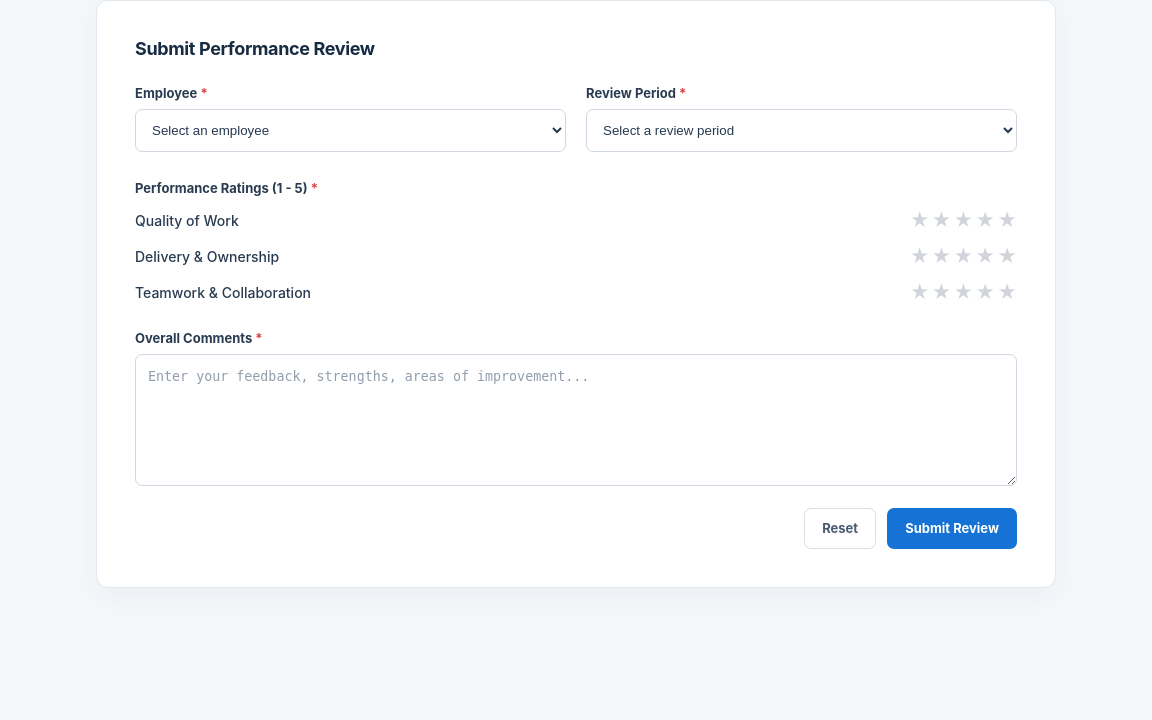
Test: SubmitReview › submits selected values and resets the form after success
The image size is (1152, 720).
Select "E-5 - Sam Lee" in the dropdown labelled "Employee *" at (350, 130), box [135,109,566,152]
Select "2026 H1" in the dropdown labelled "Review Period *" at (802, 130), box [586,109,1017,152]
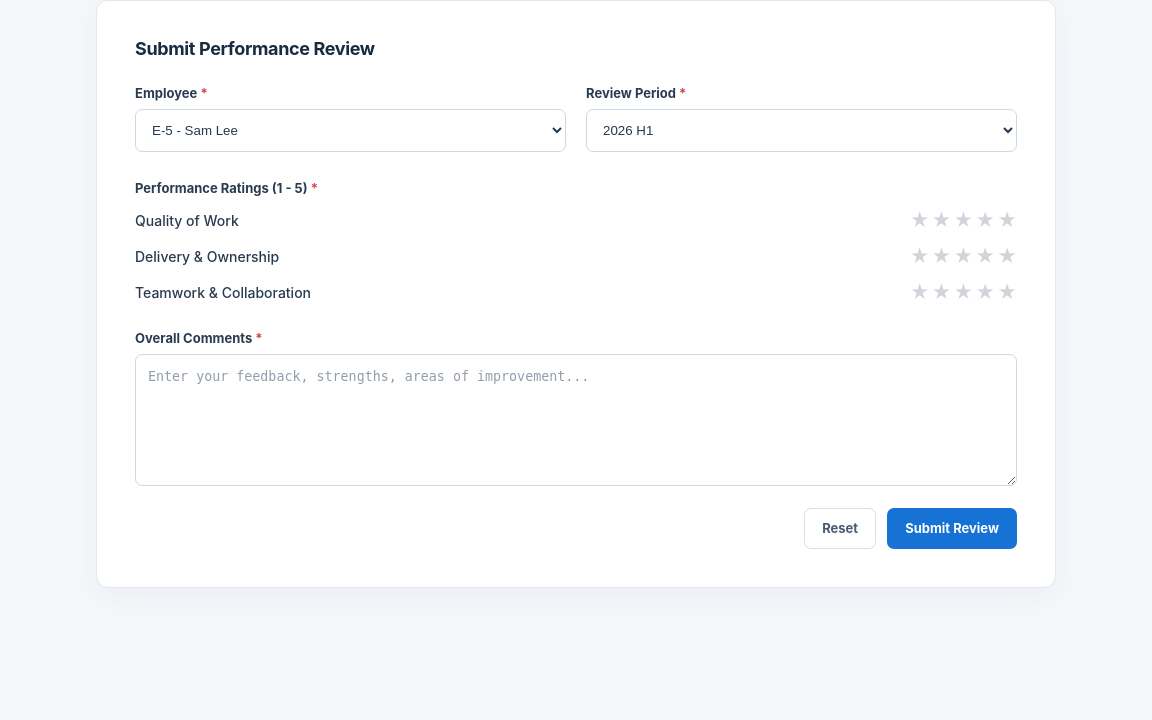
Click the button named "Quality of Work: 4 out of 5" at (985, 220), box [975,211,995,230]
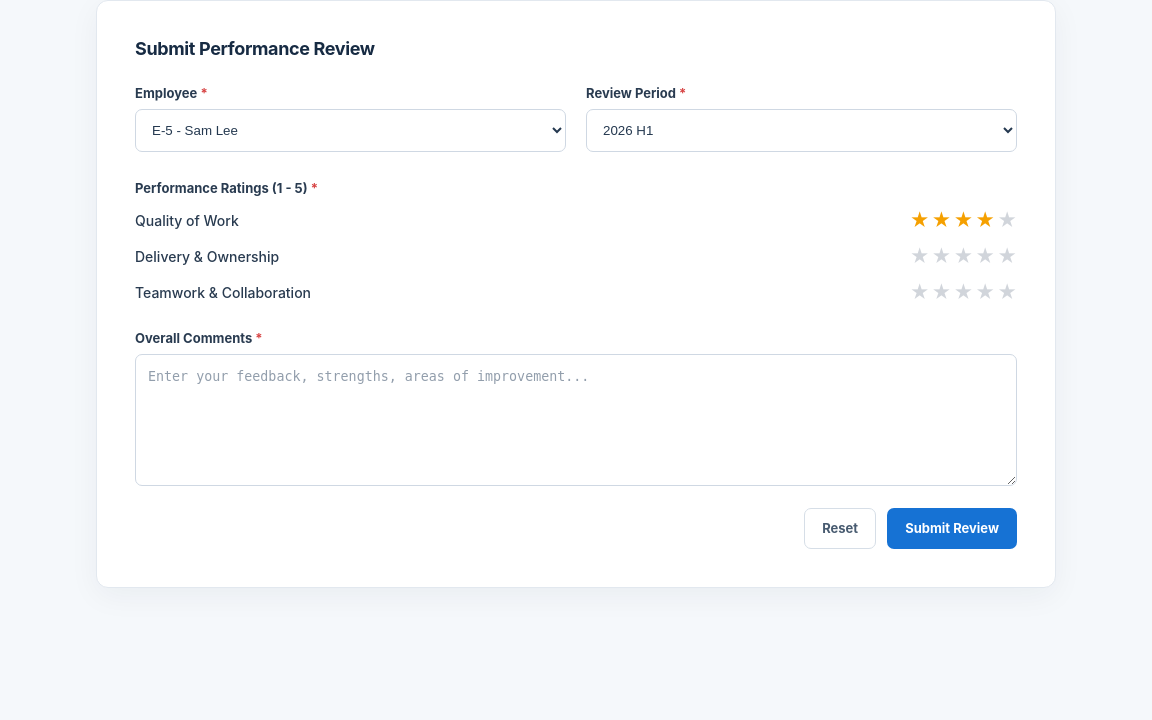
Click the button named "Delivery & Ownership: 3 out of 5" at (963, 256), box [953,247,973,266]
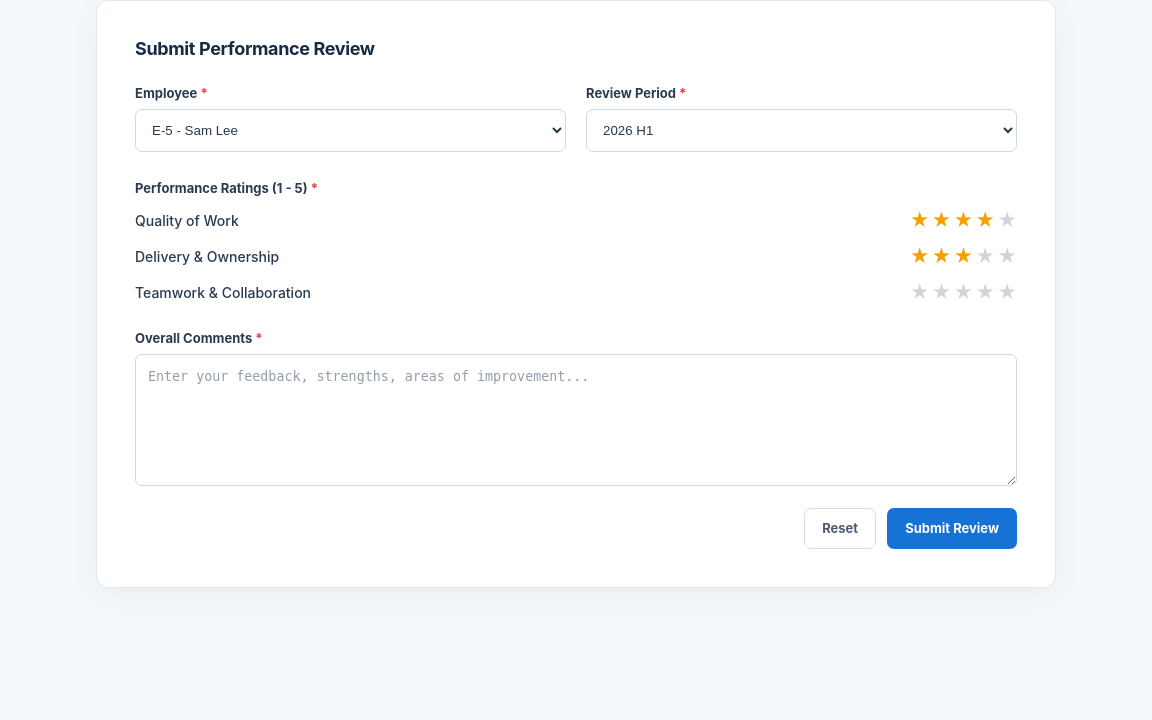
Click the button named "Teamwork & Collaboration: 5 out of 5" at (1007, 292), box [997,283,1017,302]
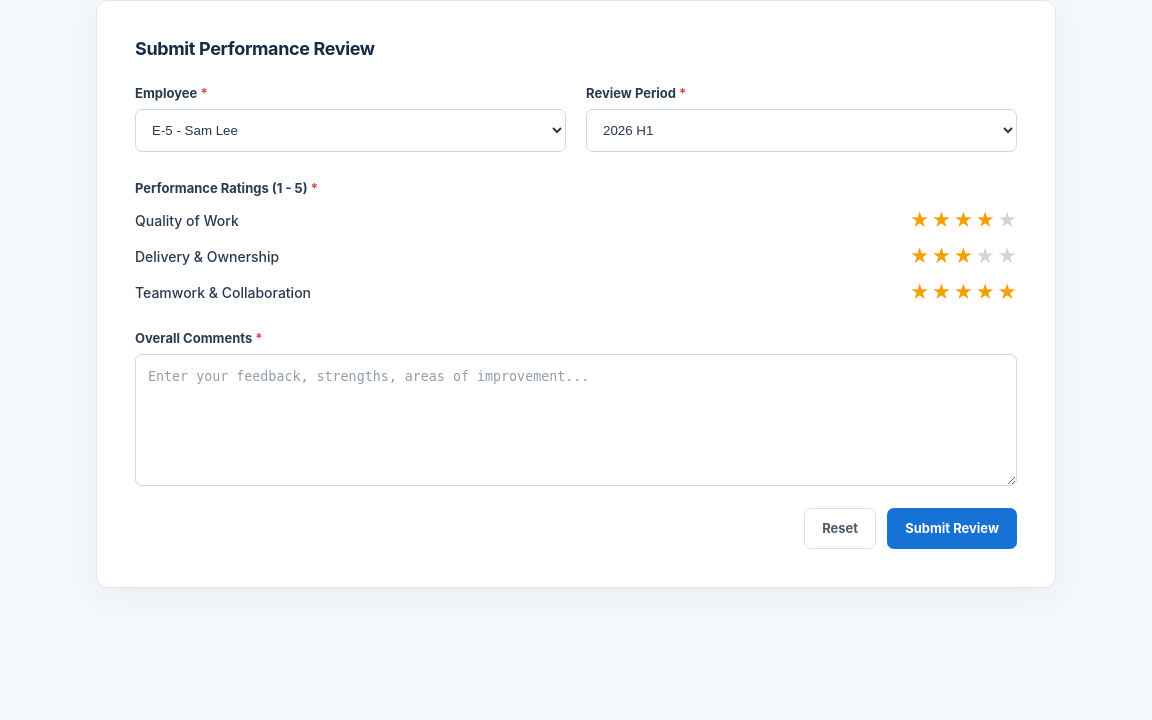
Type "Strong collaboration" into the text box labelled "Overall Comments *" at (576, 420), box [135,354,1017,486]
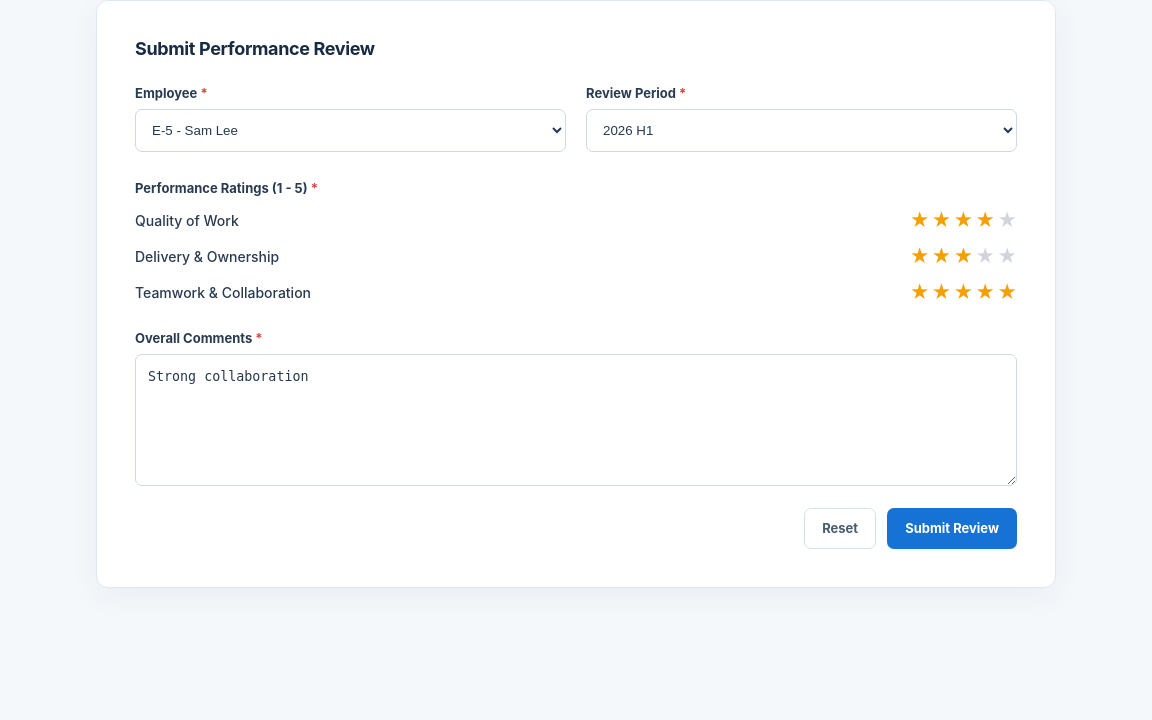
Click the button "Submit Review" at (952, 528), box [887,508,1017,549]
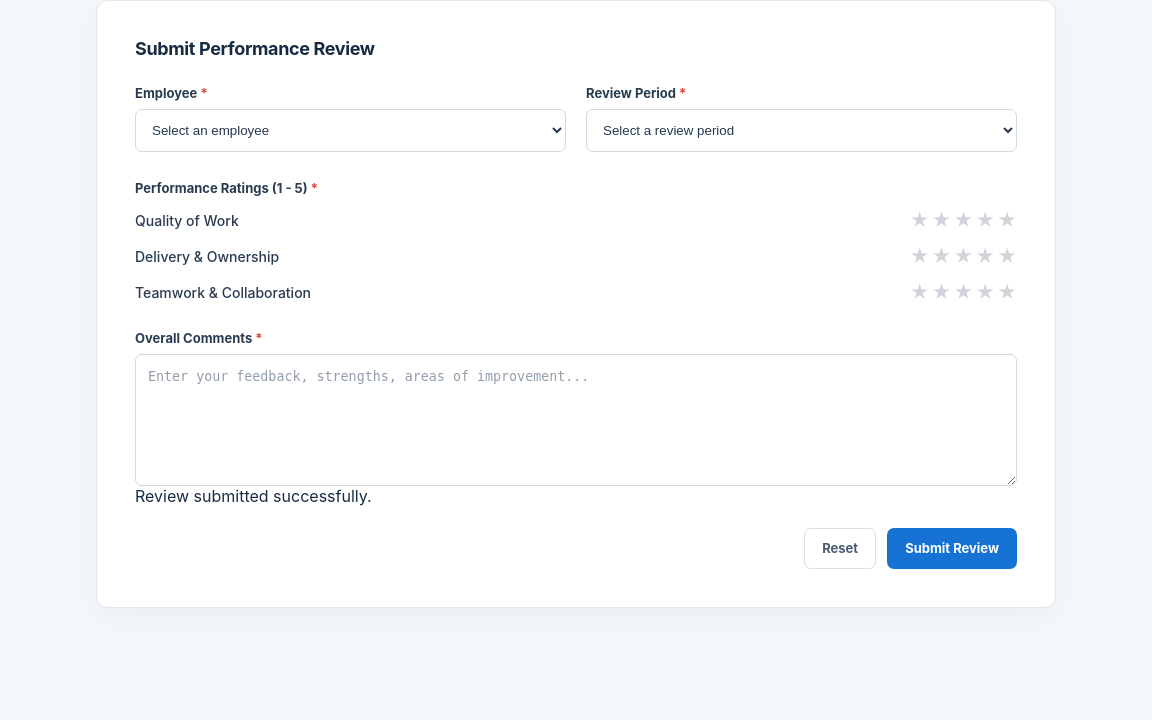
Check: the message reads "Review submitted successfully.", box [135,486,372,506]
Check: the text box labelled "Overall Comments *" is empty, box [135,354,1017,486]
